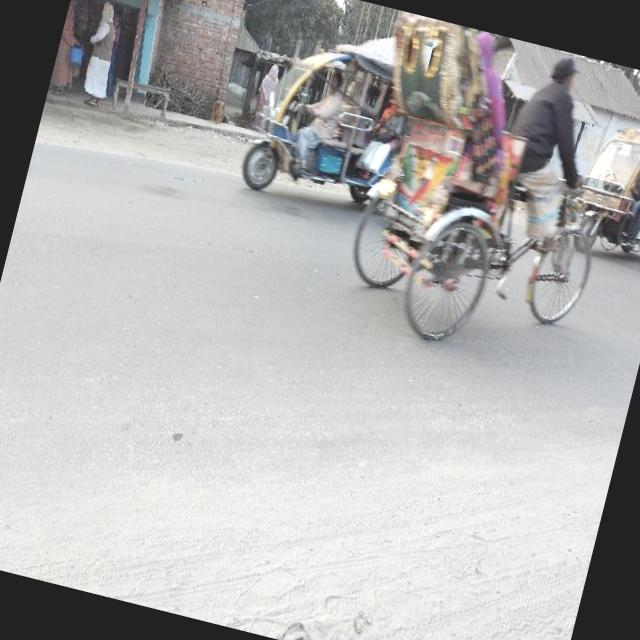motorcycle: (324, 10, 640, 378), (231, 26, 440, 236), (563, 116, 640, 278)
